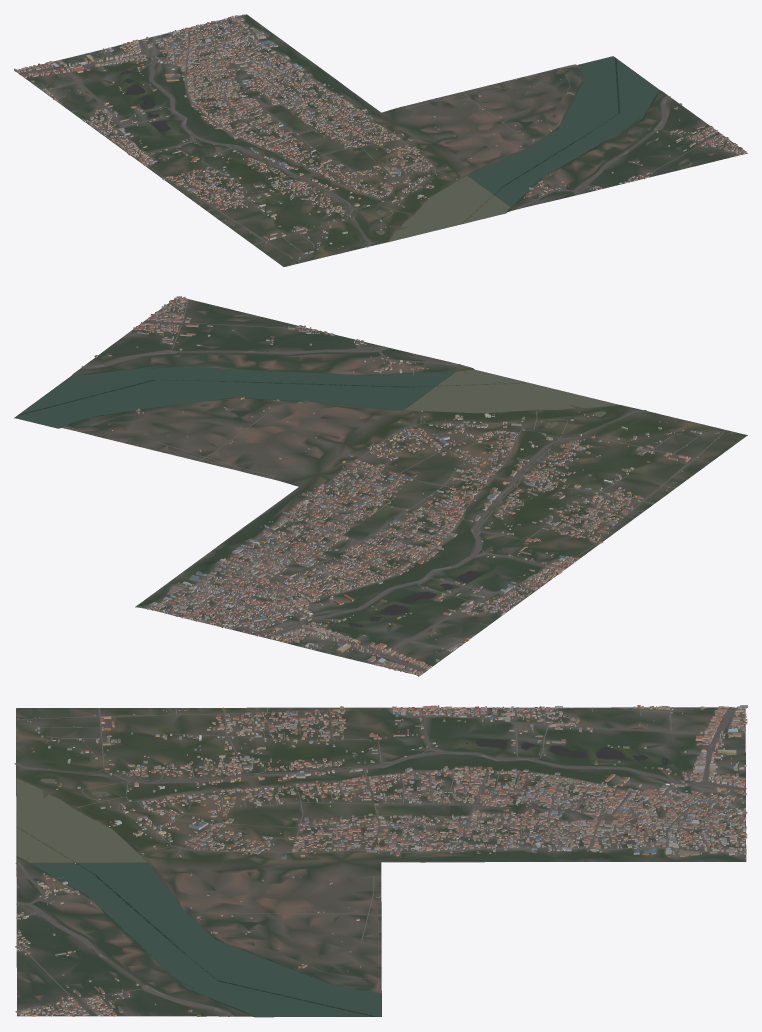
The picture shows the model from 3 angles, top to bottom: view 1: azimuth 30°, elevation 25°; view 2: azimuth 150°, elevation 25°; view 3: azimuth 270°, elevation 25°; orthographic projection. The views are drawn at different scales.
Visible parts, largest first — view 1: ground, buildings, water, roads; view 2: ground, buildings, water, roads; view 3: ground, buildings, water, roads.
Boxes of the visible parts, <box> form: ground: <box>17,14,747,266</box>; buildings: <box>14,14,746,262</box>; water: <box>120,53,659,241</box>; roads: <box>18,16,746,262</box>; ground: <box>14,297,747,674</box>; buildings: <box>94,296,727,676</box>; water: <box>14,366,633,627</box>; roads: <box>81,299,726,672</box>; ground: <box>16,707,746,1017</box>; buildings: <box>15,705,747,1016</box>; water: <box>16,739,672,1016</box>; roads: <box>14,707,746,1016</box>.
Size of the model in its own units: 2819 by 31.5 by 2820.
